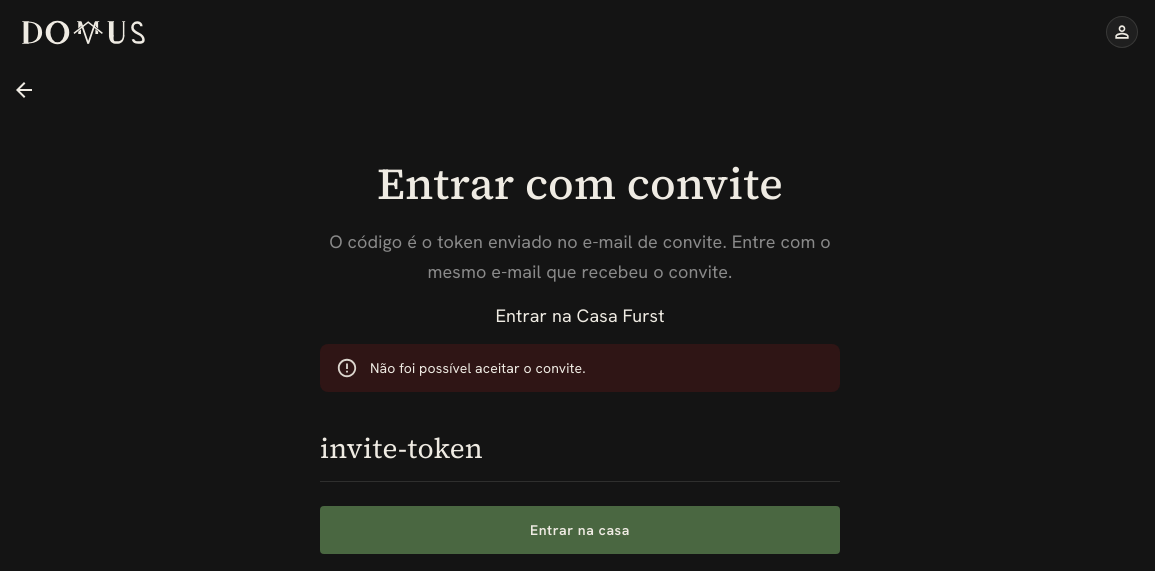
Scenario: JoinHouseholdPage › retries acceptance when the same token is submitted again
Expected: the text "Não foi possível aceitar o convite." is shown, [370,359,586,377]
What coordinates should you click on to do the following:
click the button "Entrar na casa"
I would click on:
 (580, 530)
Its box is [320,506,840,554].
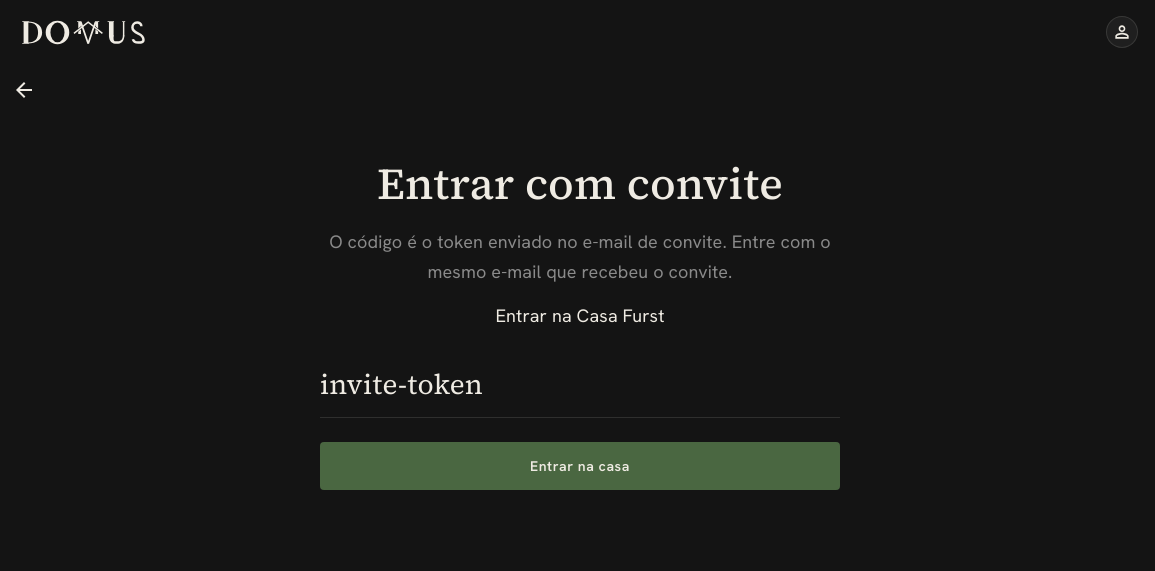
Expected: the text "Não foi possível aceitar o convite." is gone
